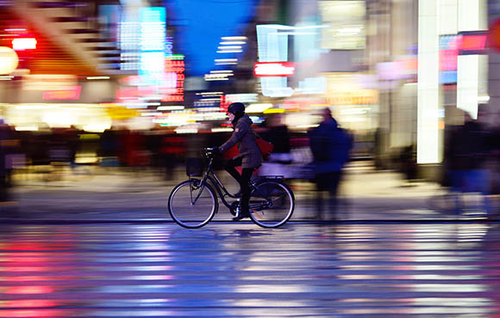bikerider: (164, 100, 303, 232)
